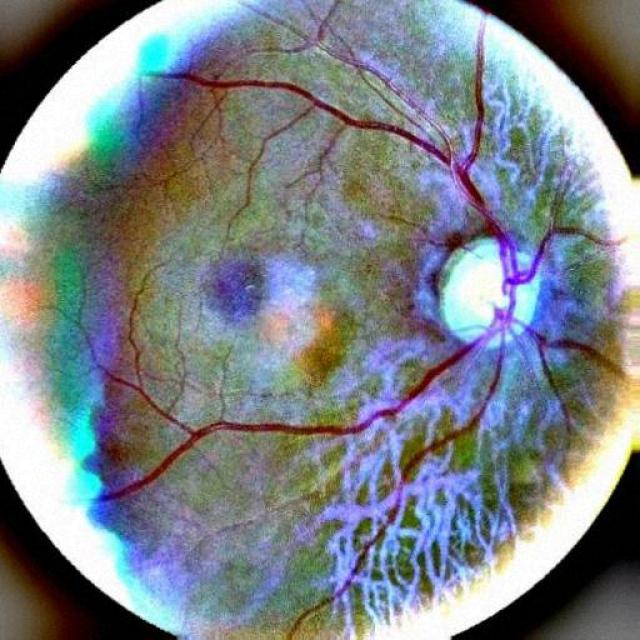Macula: (206, 260, 262, 321)
Nerves: (98, 21, 620, 598), (251, 15, 419, 126), (381, 212, 469, 259)
Optic Disk: (438, 236, 539, 346)
